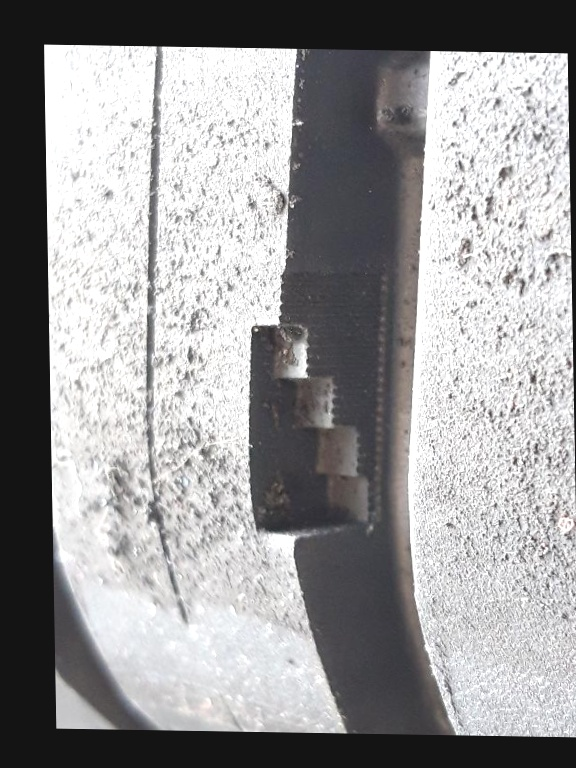temoin:95: (226, 262, 405, 555)
